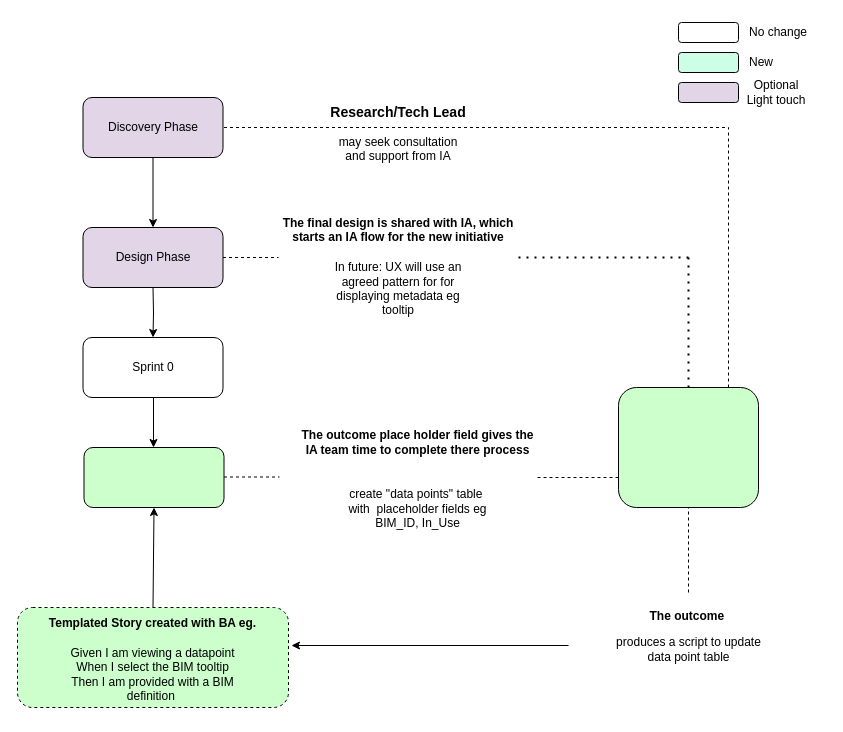
This 843x732 diagram has some shape labels left out. The box of each missing label's shape, as (x1, y1, x2, y2) in pixels:
Build Phase: (83, 446, 224, 508)
IA process: (618, 386, 758, 508)
